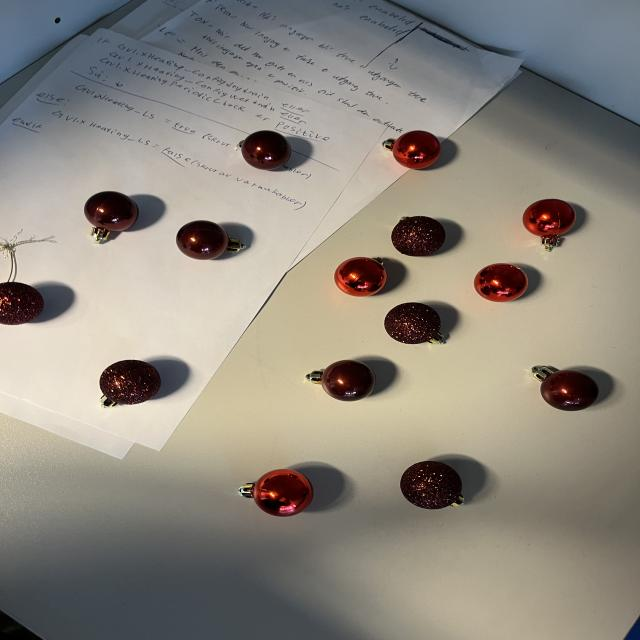glitter-bauble: (84, 350, 176, 414), (395, 458, 471, 513), (381, 297, 448, 351), (400, 461, 464, 510), (0, 274, 51, 333), (100, 360, 161, 408), (389, 212, 449, 258), (384, 302, 444, 345), (391, 216, 446, 257), (0, 282, 44, 325)
glossy-bauble: (232, 461, 324, 522), (515, 196, 583, 256), (238, 469, 313, 517), (376, 126, 448, 172), (327, 255, 394, 300), (468, 261, 535, 305), (522, 199, 576, 252), (382, 130, 441, 170), (474, 263, 528, 302)
wine-red-bauble: (292, 355, 384, 405), (524, 358, 602, 414), (77, 188, 144, 248), (170, 217, 252, 265), (532, 366, 599, 412), (83, 191, 139, 244), (232, 127, 296, 173), (306, 360, 375, 402), (176, 220, 247, 260), (236, 130, 291, 171)
